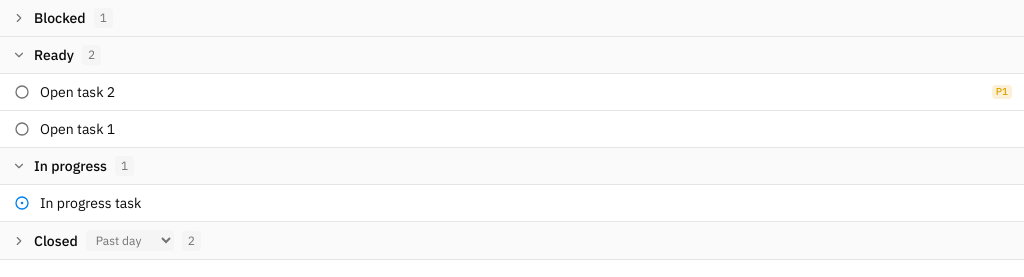
Test: TaskList › collapse/expand › updates aria-expanded on toggle
Click the button with aria-label "Ready section" at (54, 55), box [0,37,1023,74]
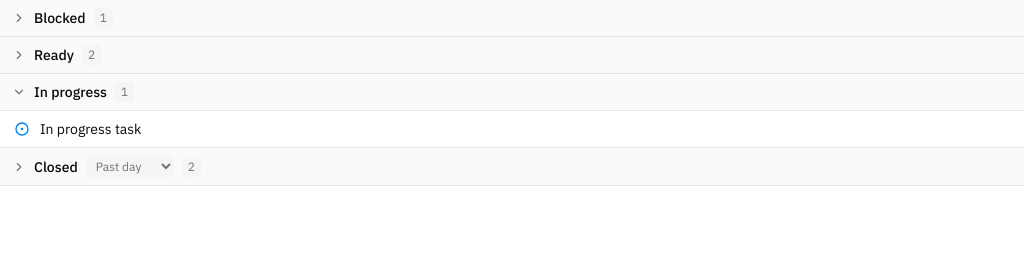
Expected: the button with aria-label "Ready section" is collapsed, [0,37,1023,74]
